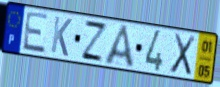4: (143, 28, 165, 74)
A: (103, 23, 137, 71)
E: (21, 10, 51, 56)
K: (49, 14, 73, 59)
X: (168, 32, 198, 78)
Z: (79, 18, 109, 64)
